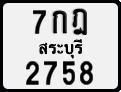letters: (72, 8, 88, 36), (51, 9, 68, 34), (42, 60, 58, 86), (25, 59, 40, 86), (79, 59, 94, 86), (32, 9, 47, 35), (62, 60, 76, 86)
province: (38, 38, 84, 59)
